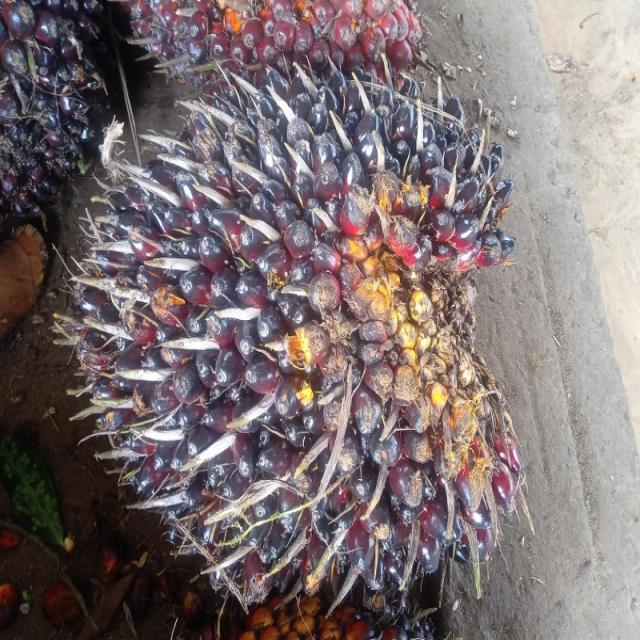fraksi 1: (69, 61, 537, 595)
